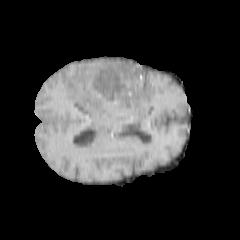glioma: (64, 62, 148, 118)
